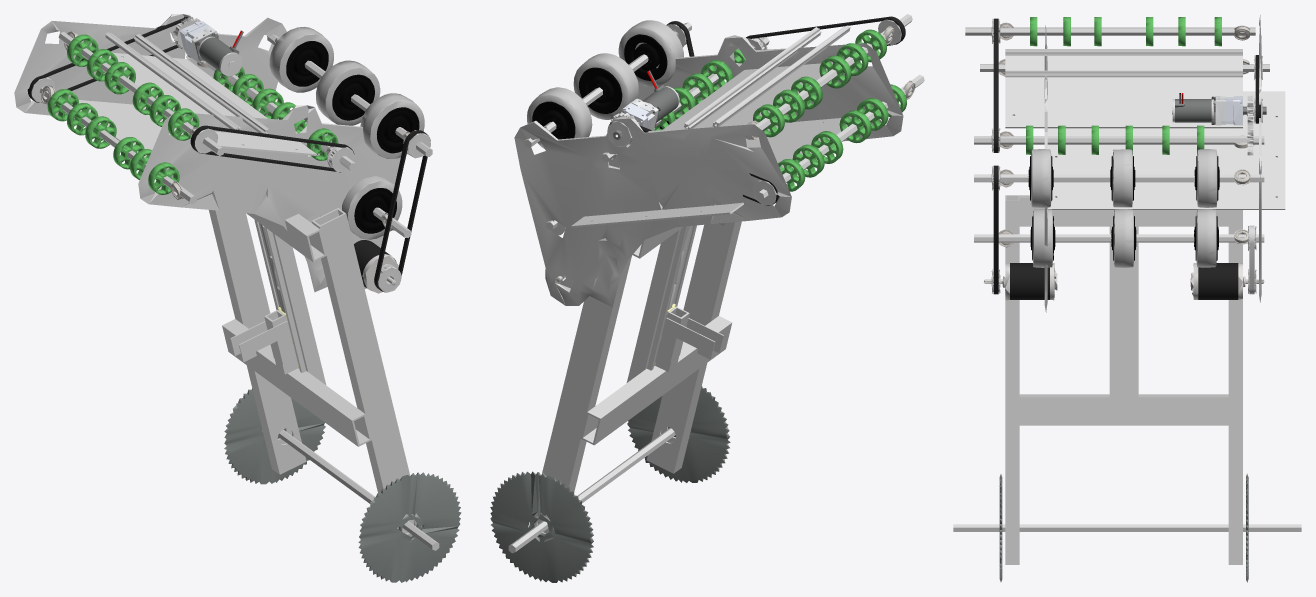
3 renders of one model, left to right at view 1: azimuth 30°, elevation 25°; view 2: azimuth 150°, elevation 25°; view 3: azimuth 270°, elevation 25°, orthographic. The views are drawn at different scales.
Visible parts, largest first — view 1: geometry_1, geometry_0, geometry_5, geometry_11, geometry_12, geometry_10, geometry_14, geometry_2, geometry_8, geometry_18, geometry_13; view 2: geometry_1, geometry_0, geometry_5, geometry_12, geometry_11, geometry_10, geometry_2, geometry_14, geometry_18; view 3: geometry_1, geometry_12, geometry_11, geometry_14, geometry_5, geometry_8, geometry_10, geometry_13, geometry_2, geometry_18, geometry_0, geometry_7.
Part boxes in pixels (x1,y1,x2,y2): geometry_1: (14,14,439,550); geometry_0: (224,388,461,582); geometry_5: (47,34,338,194); geometry_11: (265,27,424,239); geometry_12: (71,52,316,157); geometry_10: (242,31,419,233); geometry_14: (27,17,430,292); geometry_2: (27,25,430,372); geometry_8: (41,31,410,231); geometry_18: (199,37,237,74); geometry_13: (363,254,398,293); geometry_1: (508,14,924,553); geometry_0: (490,386,730,582); geometry_5: (654,29,906,191); geometry_12: (571,62,851,227); geometry_11: (527,20,683,148); geometry_10: (532,34,668,139); geometry_2: (550,16,905,370); geometry_14: (609,16,905,205); geometry_18: (643,86,678,122); geometry_1: (953,15,1301,564); geometry_12: (1005,56,1285,209); geometry_11: (1031,149,1217,267); geometry_14: (993,18,1260,299); geometry_5: (1026,17,1221,154); geometry_8: (998,22,1250,247); geometry_10: (1028,93,1219,260); geometry_13: (984,263,1264,300); geometry_2: (991,19,1262,293); geometry_18: (1175,99,1211,122); geometry_0: (999,473,1248,582); geometry_7: (1226,96,1242,125).
Bounding box in the file's own units: 0.5567 × 0.8879 × 0.6.
